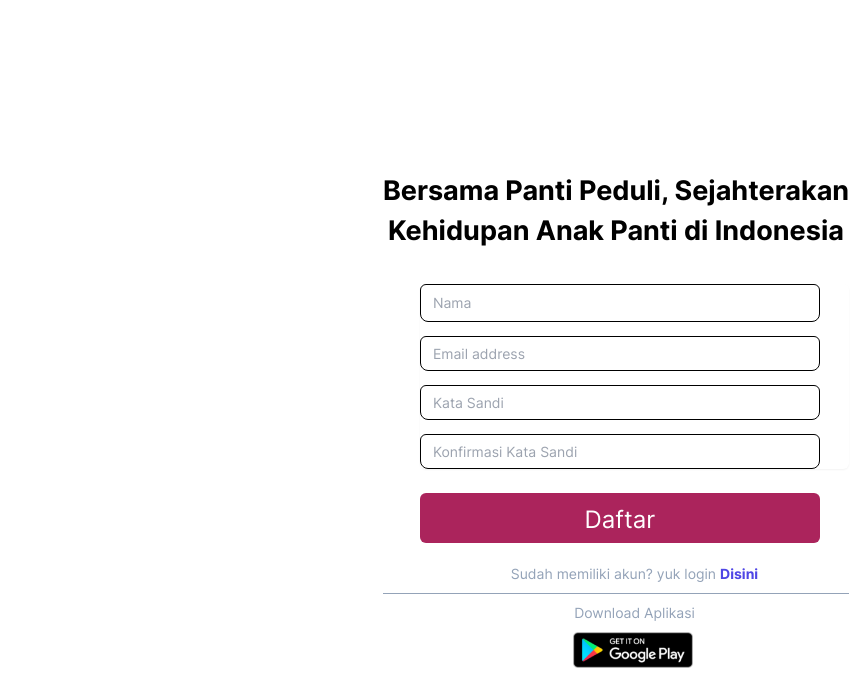
Test case: Daftar panti › Menampilkan pesan error jika password dan konfirmasi password tidak sama
In the field labelled "Nama": point(620, 302) [420,284,820,322], type "John Doe"
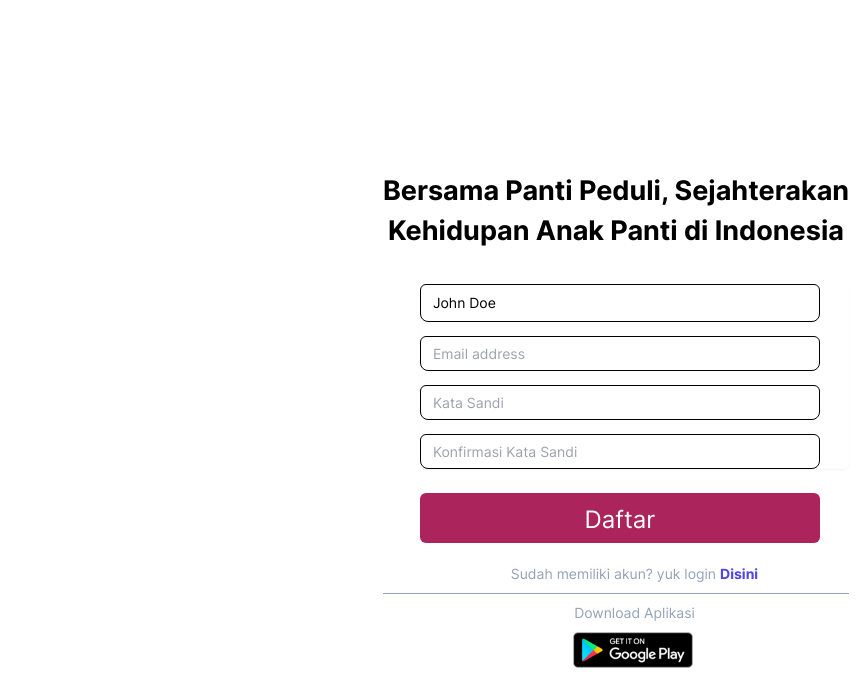
In the field labelled "Email address": point(620, 353) [420,336,820,370], type "test@gmail.com"
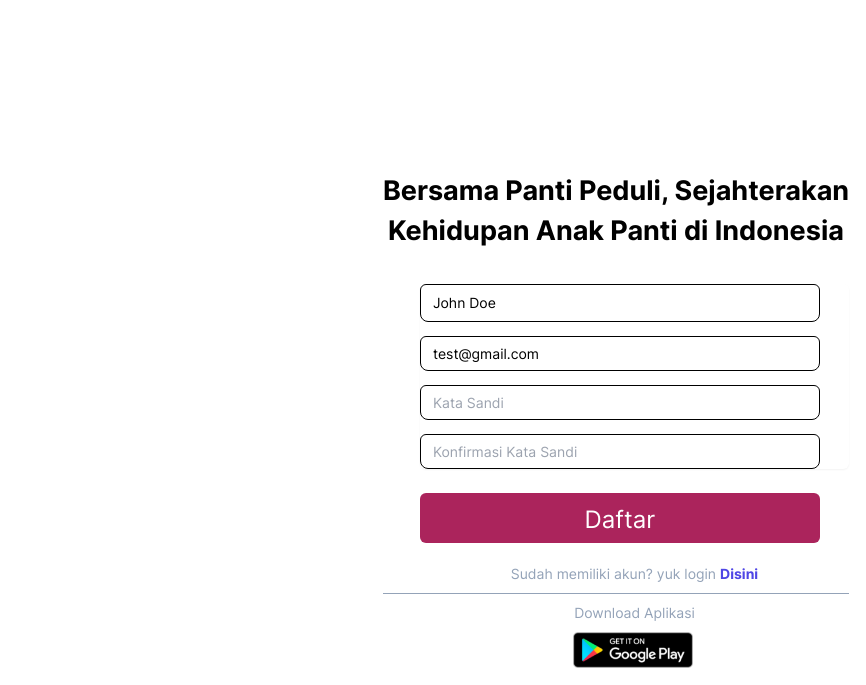
In the password field labelled "Kata Sandi": point(620, 402) [420,384,820,420], type "password123"
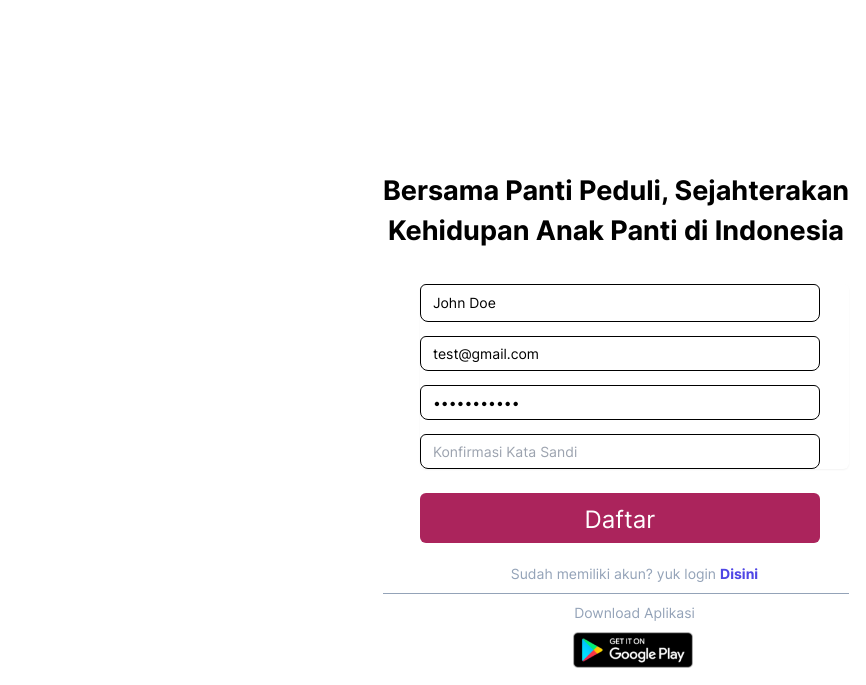
In the password field labelled "Konfirmasi Kata Sandi": point(620, 451) [420,434,820,468], type "password1234"
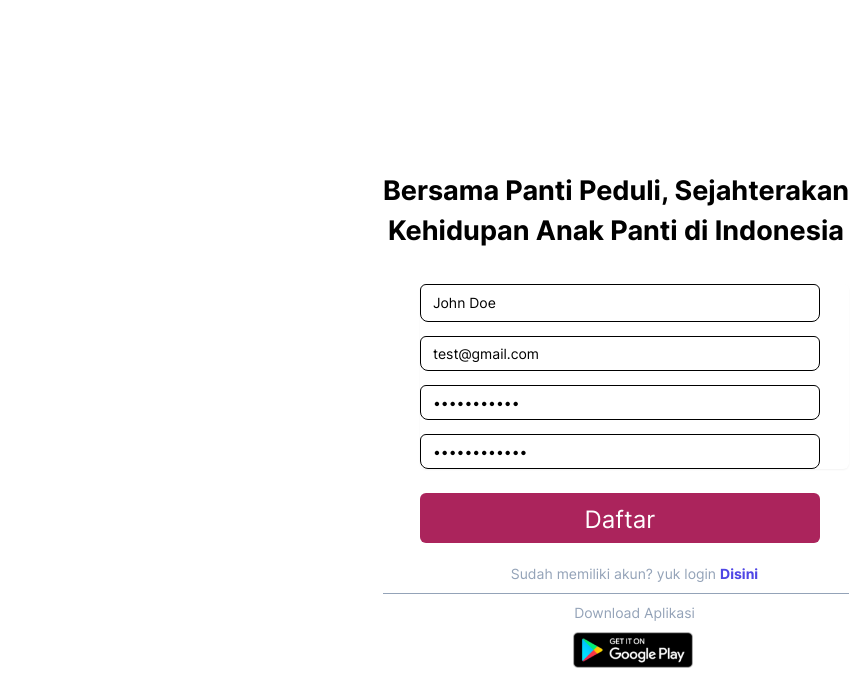
Click the button "Daftar": point(620, 518) [420,492,820,542]
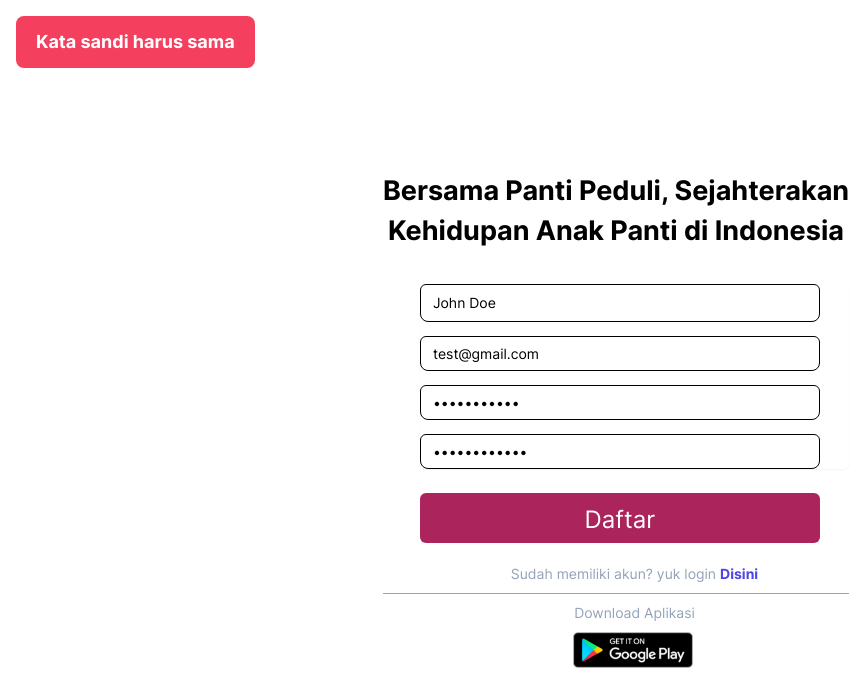
Expected: the text "Kata sandi harus sama" is shown, [36,31,235,52]
